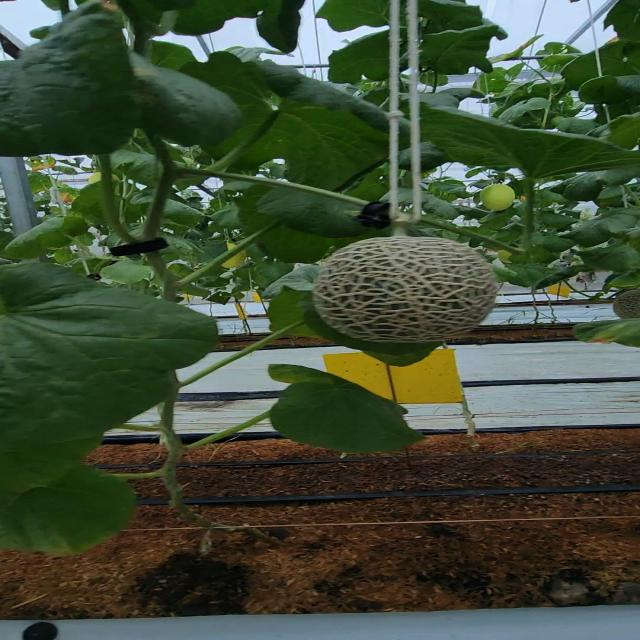Front-melon: (317, 238, 498, 339)
Rear-melon: (478, 184, 518, 210)
